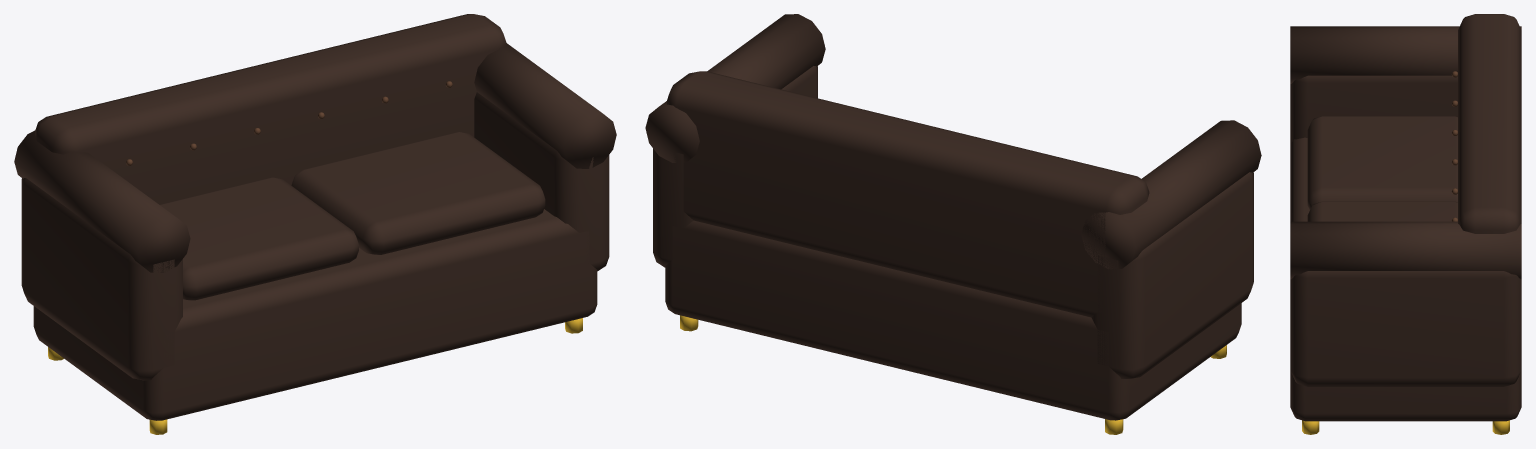
The model's file is LeatherSofa.fbx.
The picture shows the model from 3 angles, left to right: view 1: azimuth 30°, elevation 25°; view 2: azimuth 150°, elevation 25°; view 3: azimuth 270°, elevation 25°; orthographic projection. The views are drawn at different scales.
Parts seen in each view (by area): view 1: LeatherSofaBody; view 2: LeatherSofaBody; view 3: LeatherSofaBody.
Boxes of the visible parts, x1,y1,x2,y2 form: LeatherSofaBody: (14,14,616,434); LeatherSofaBody: (645,14,1261,434); LeatherSofaBody: (1290,14,1521,434).
Size of the model in its own units: 1.8 by 0.86 by 0.8.
